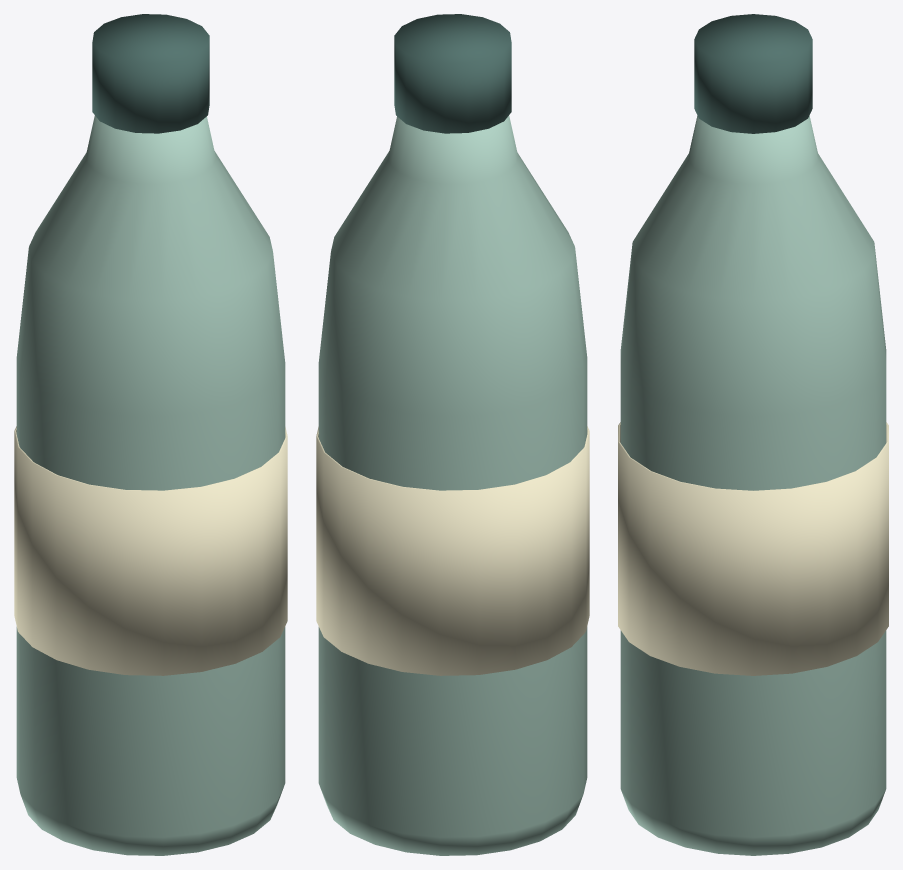
File: water.glb
The picture shows the model from 3 angles, left to right: view 1: azimuth 30°, elevation 25°; view 2: azimuth 150°, elevation 25°; view 3: azimuth 270°, elevation 25°; orthographic projection.
Parts seen in each view (by area): view 1: bottle, blabel, cap; view 2: bottle, blabel, cap; view 3: bottle, blabel, cap.
Part boxes in pixels (<box>): bottle: <box>16,115,285,855</box>; blabel: <box>14,426,287,675</box>; cap: <box>92,14,209,133</box>; bottle: <box>318,115,587,855</box>; blabel: <box>316,426,589,675</box>; cap: <box>394,14,511,133</box>; bottle: <box>620,115,886,855</box>; blabel: <box>618,422,888,675</box>; cap: <box>694,14,812,133</box>.
Bounding box in the file's own units: 0.0672 × 0.207 × 0.0665.
